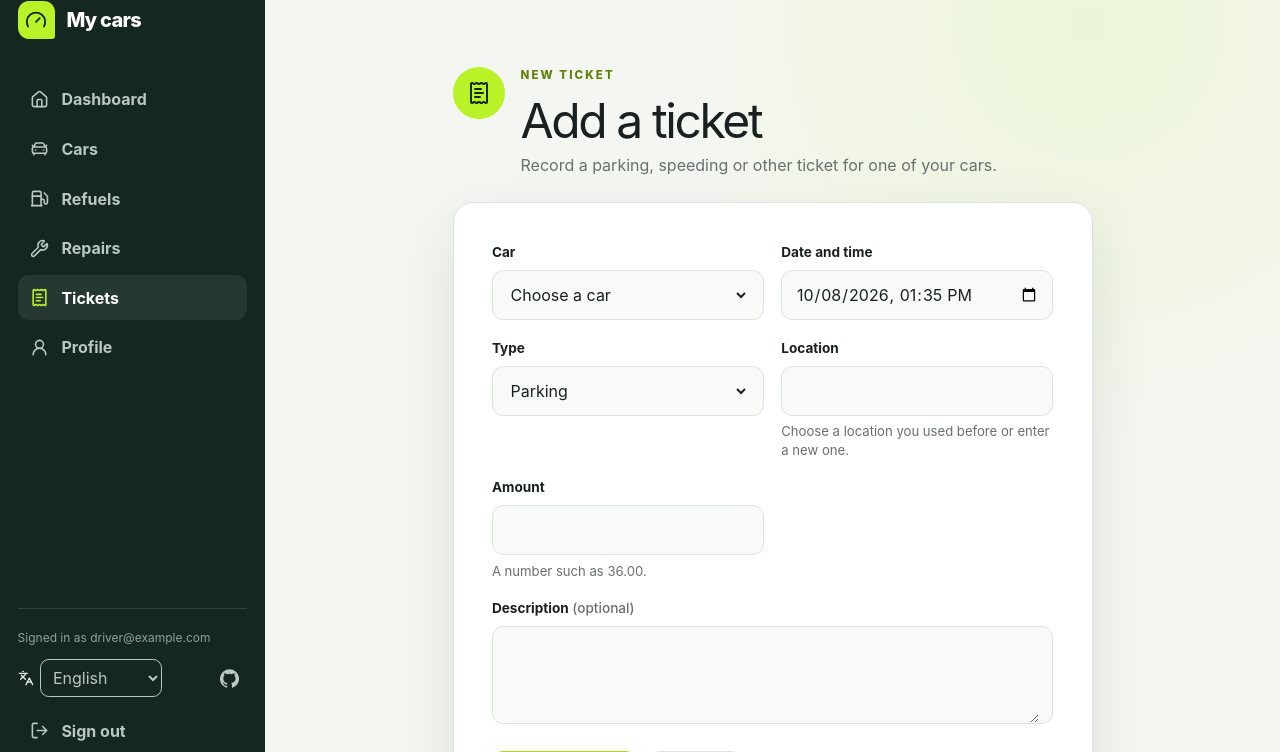
it: ticket creation › creates a ticket and returns to the list
The width and height of the screenshot is (1280, 752).
Select "Renault Zoe" in the dropdown labelled "Car" at (628, 295), box [506,271,749,319]
Replace the text in the field labelled "Date and time" with "2026-09-27T12:30" at (917, 295), box [796,271,1038,319]
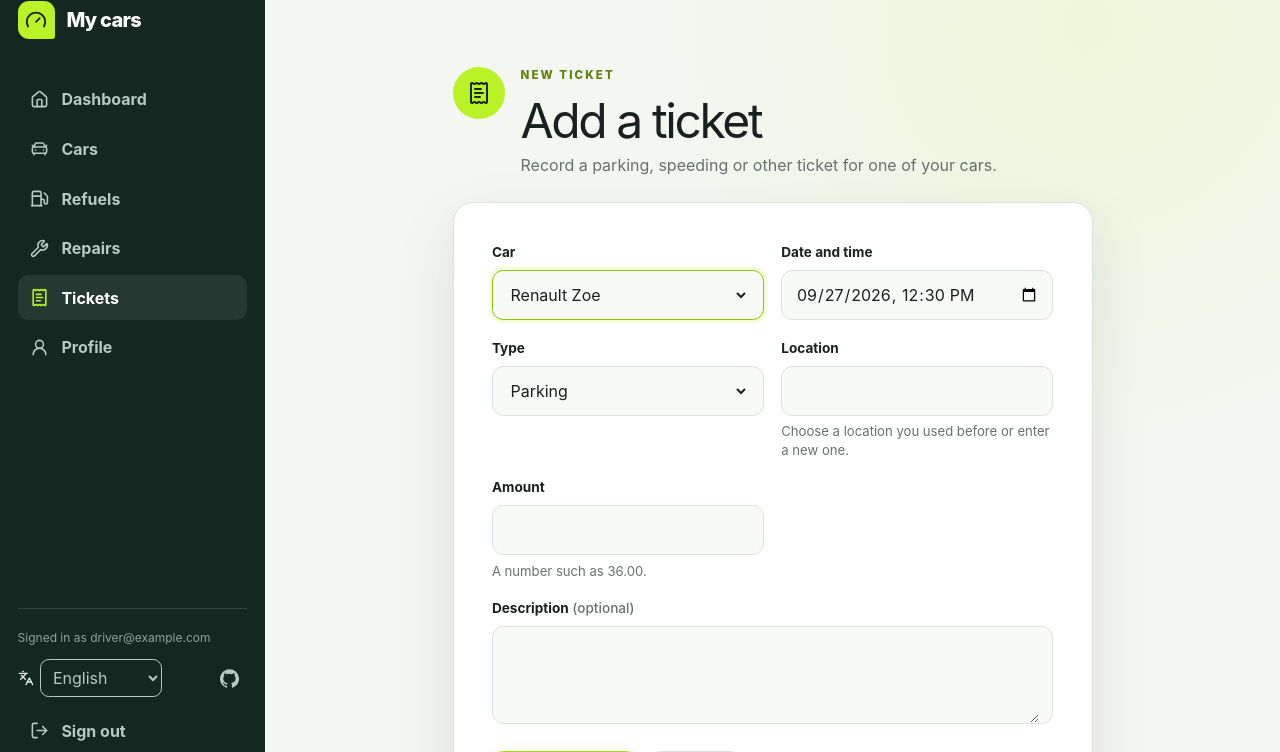
Select "Speeding" in the dropdown labelled "Type" at (628, 391), box [506,367,749,415]
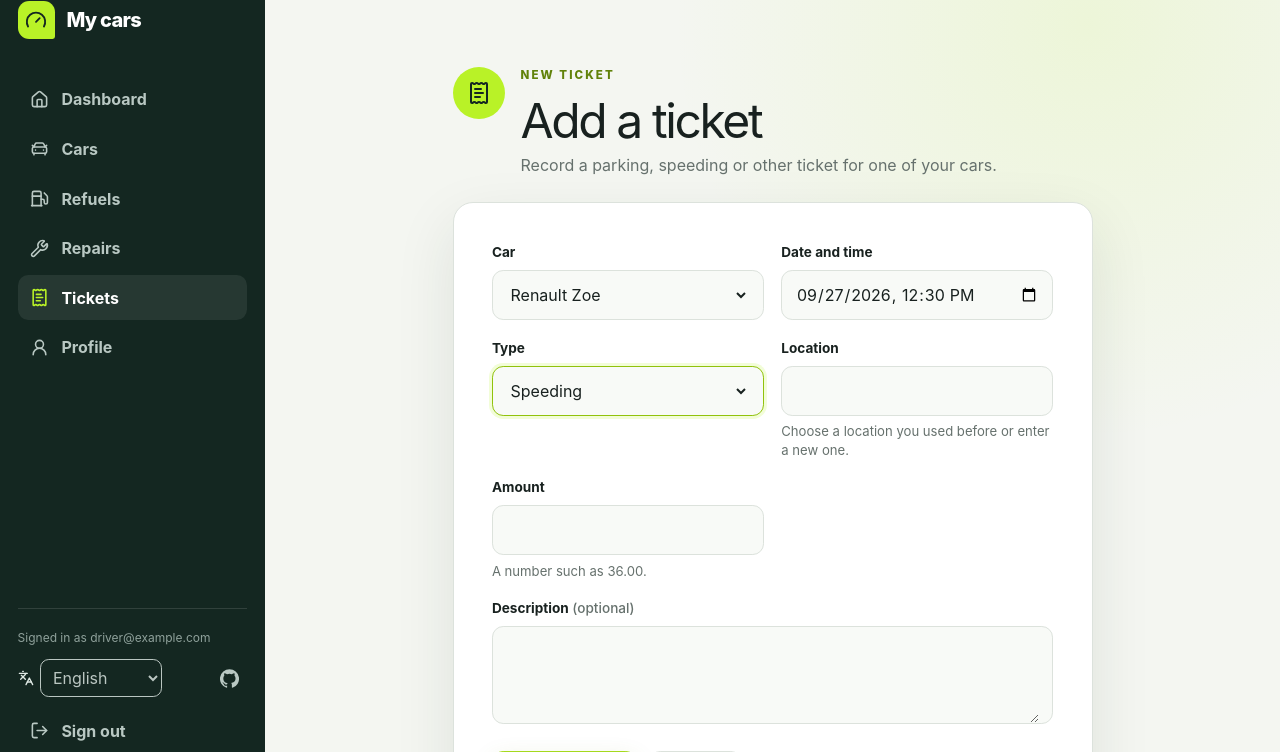
Type "A1 Linz" into the field labelled "Location" at (917, 391), box [796,367,1038,415]
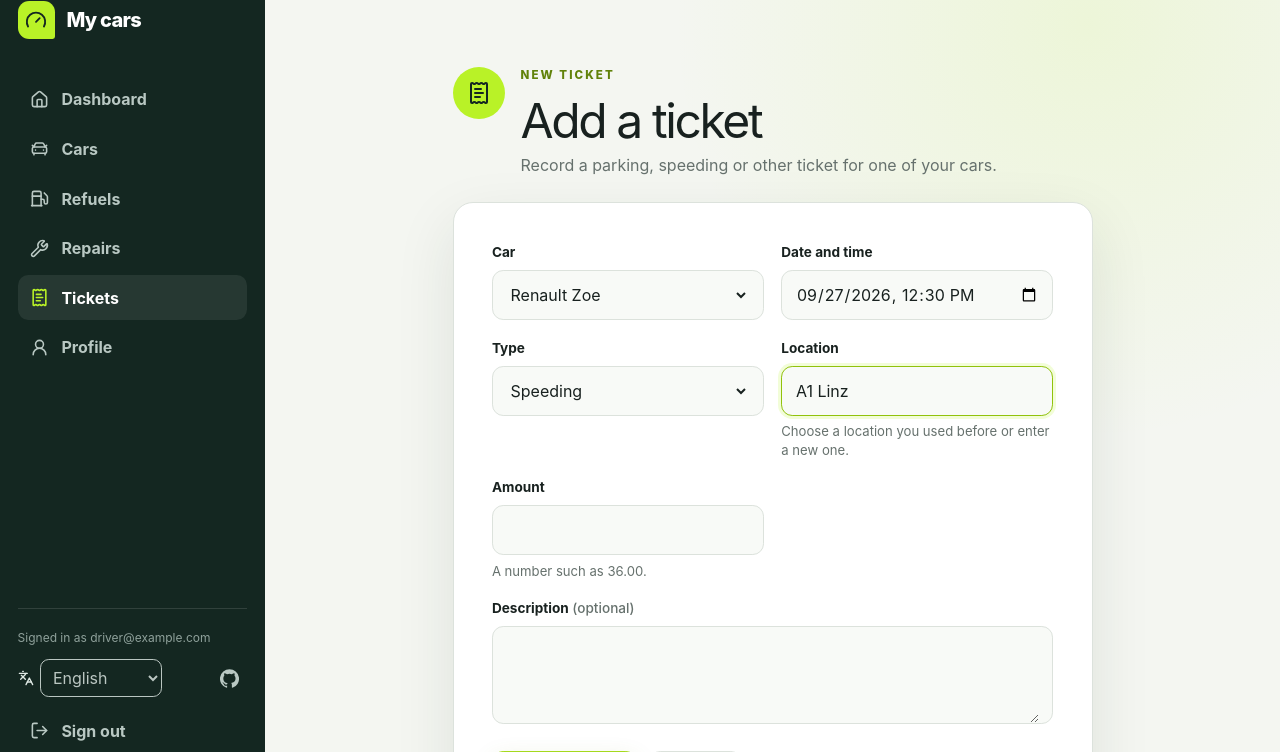
Type "70,50" into the field labelled "Amount" at (628, 530), box [506,506,749,554]
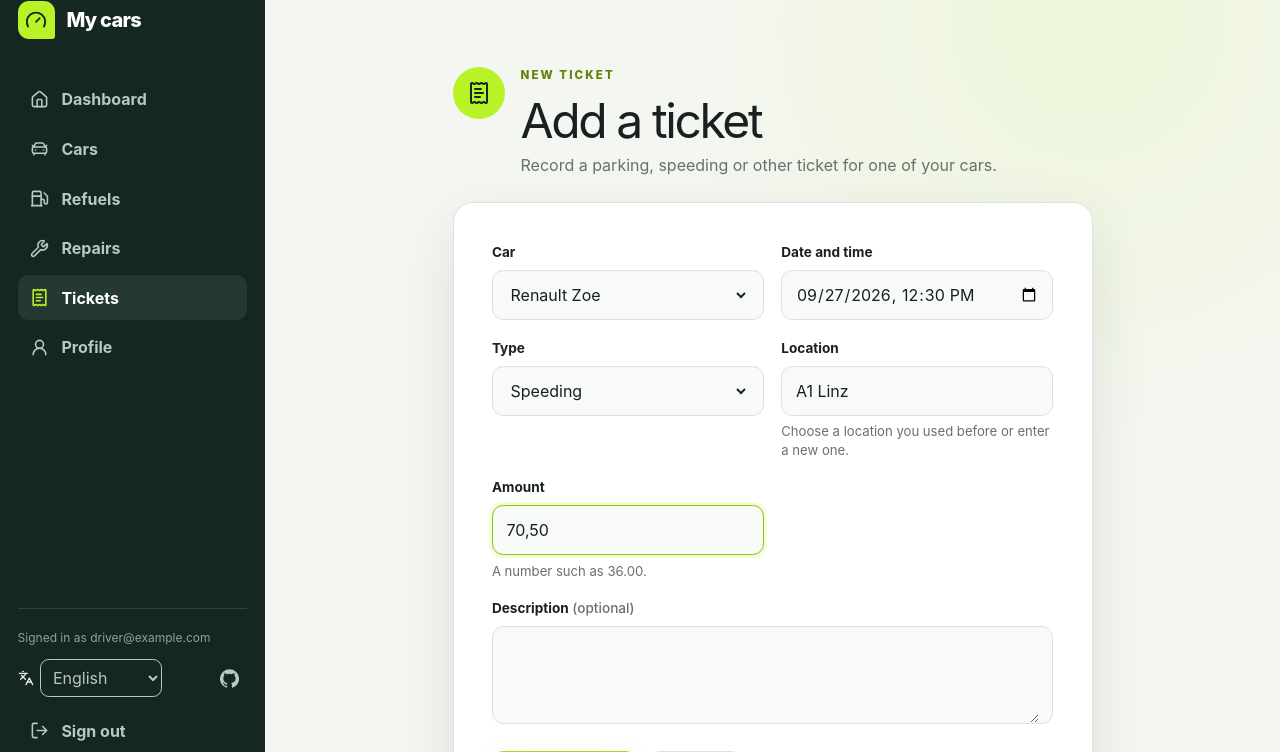
Type " Radar " into the text box labelled "Description (optional)" at (772, 675), box [506,627,1038,723]
(page scrolled)
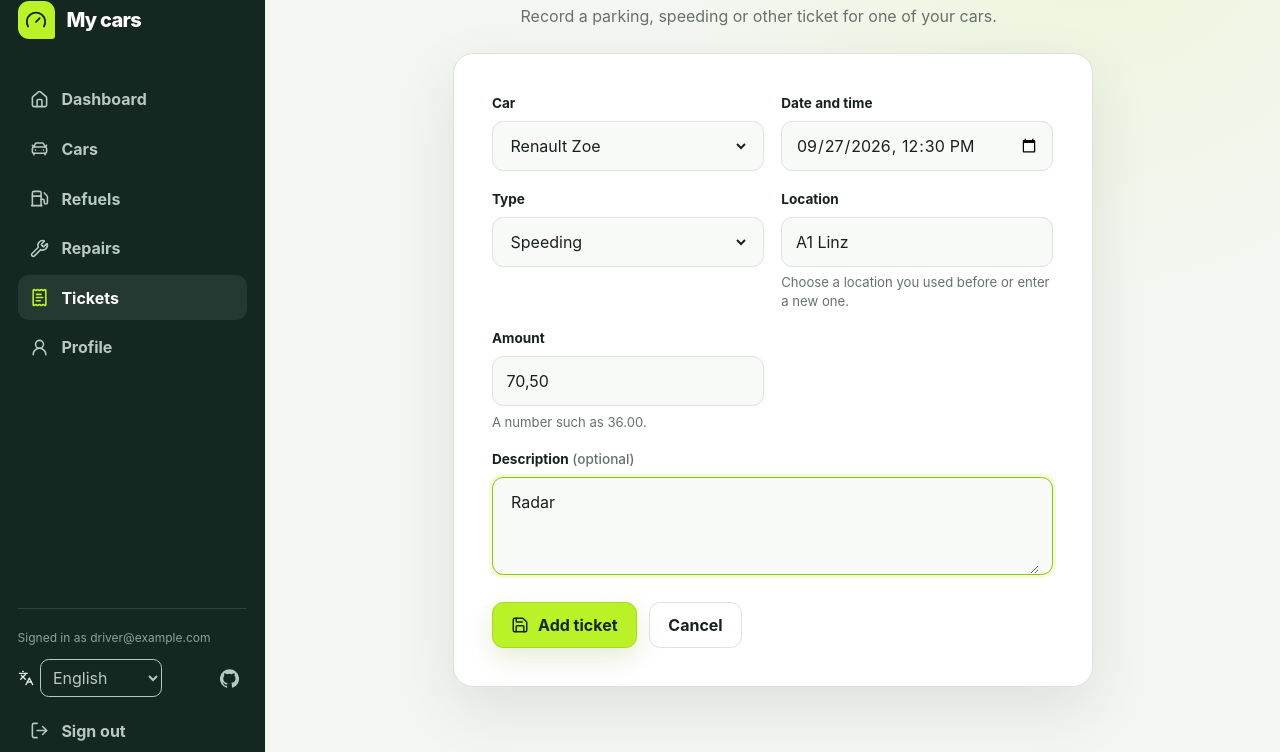
Click the button "Add ticket" at (564, 625), box [492,602,637,648]
(page scrolled)
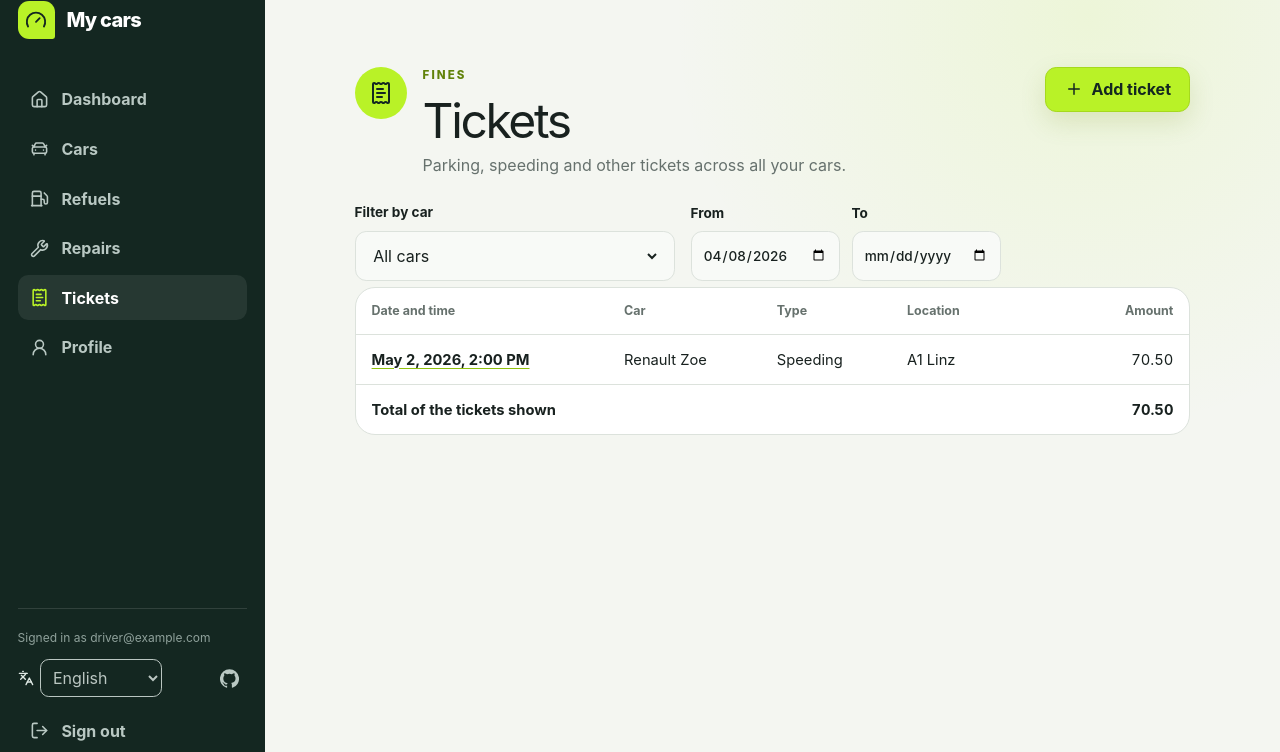
Expected: the text "A1 Linz" is shown, [891,335,1082,385]
